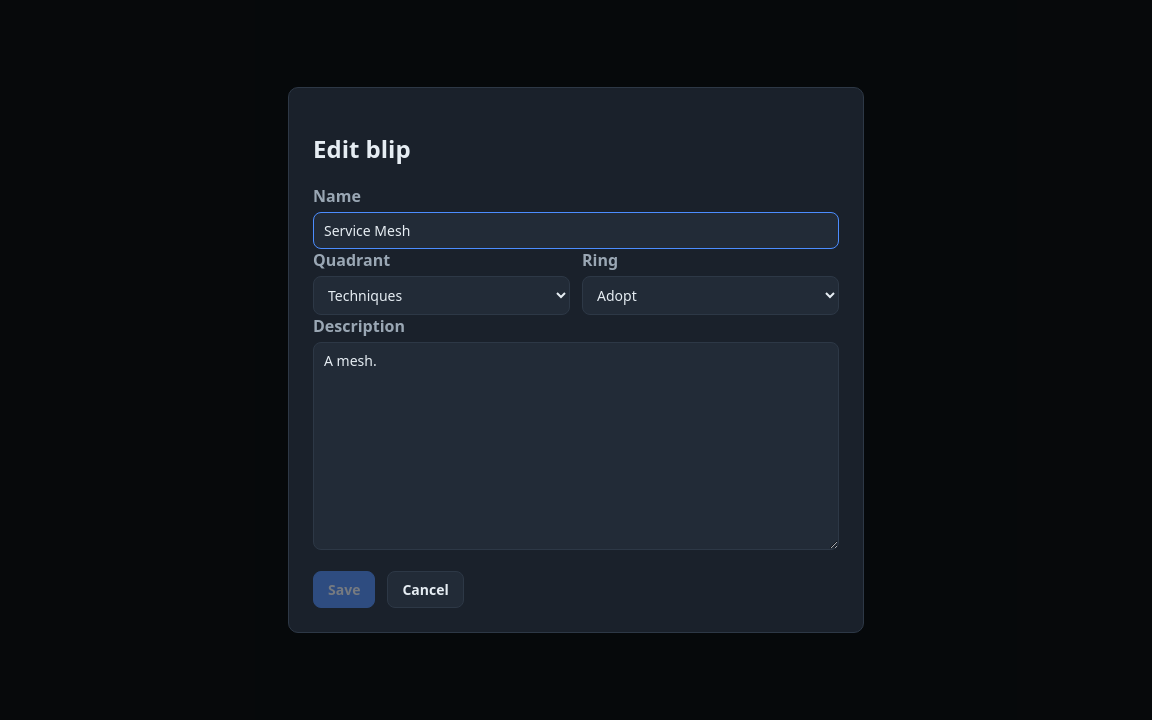
EditBlipDrawer › preserves the draft and last-confirmed value on server failure, with retry
Replace the text in the field labelled "Name" with "Service Mesh 2" at (576,230), box [313, 212, 839, 249]
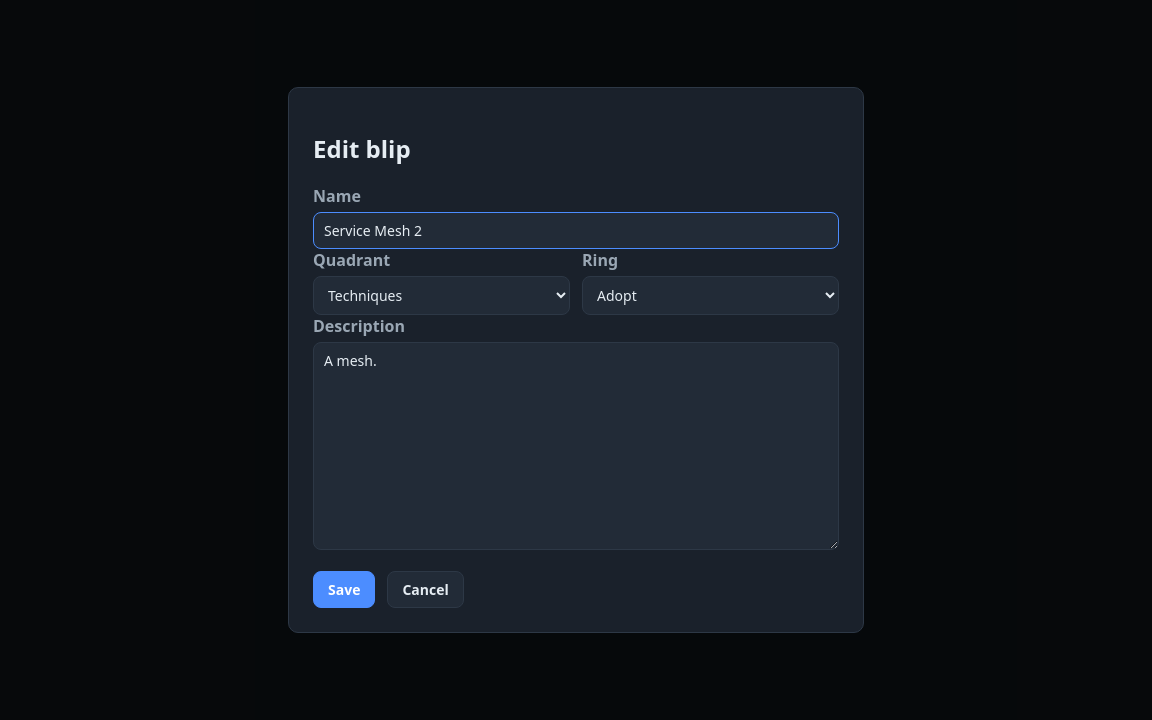
Click the button "Save" at (344,589), box [313, 571, 375, 608]
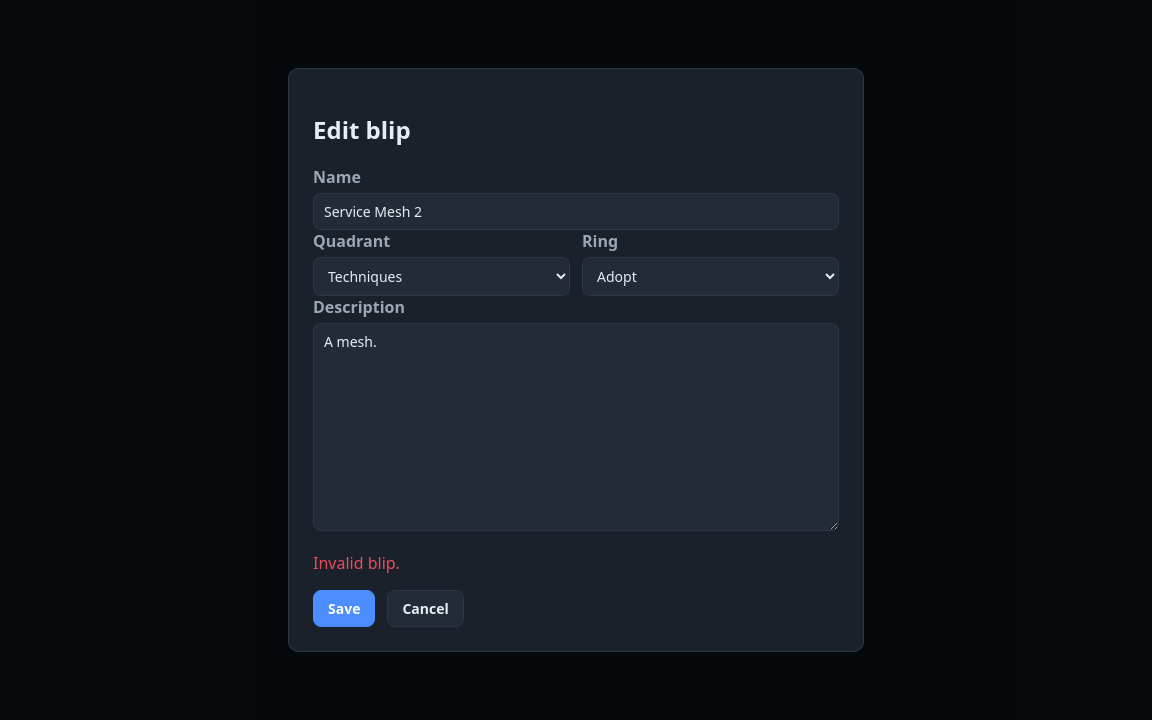
Expected: the button "Save" is enabled, [313, 590, 375, 627]
Expected: the message reads "Invalid blip.", [313, 552, 400, 574]
